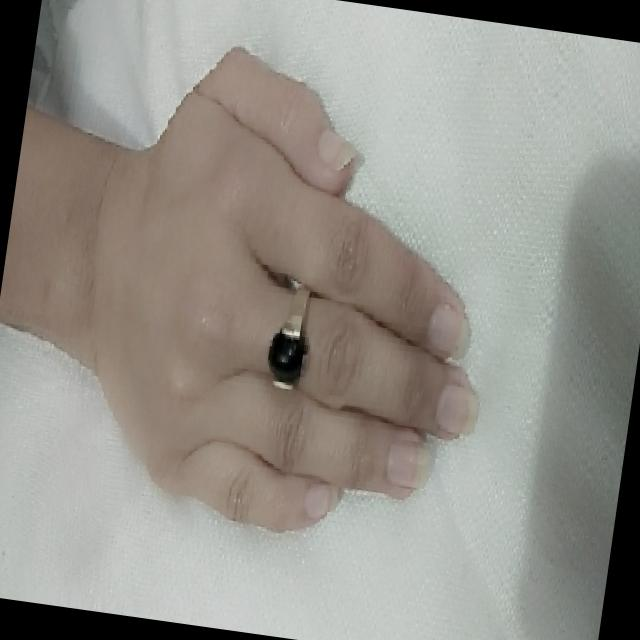Nail: (427, 302, 469, 357), (436, 382, 478, 434), (386, 442, 429, 487), (318, 128, 356, 170), (304, 481, 339, 520)
